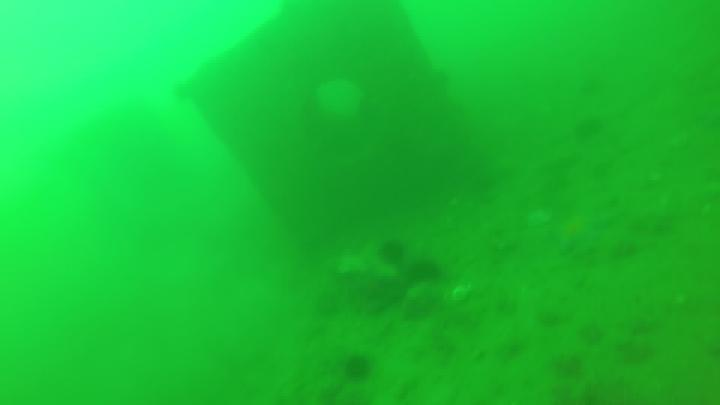echinus: (405, 258, 445, 290), (339, 354, 374, 385), (376, 240, 408, 265)
scallop: (528, 208, 553, 227), (453, 282, 474, 304)
starfish: (557, 209, 610, 254)
